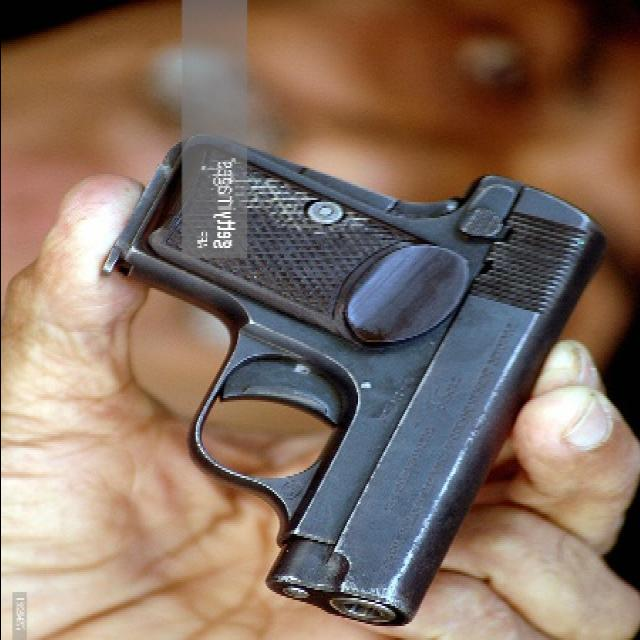handgun: (109, 133, 607, 629)
